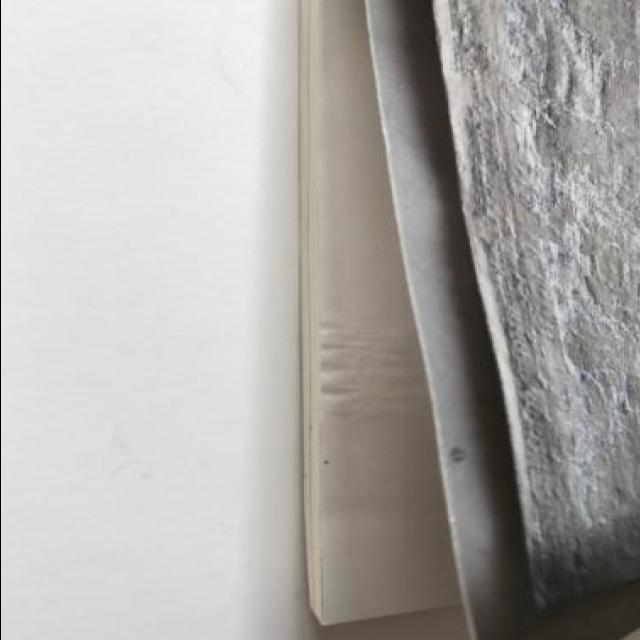kertas: (293, 0, 640, 640)
